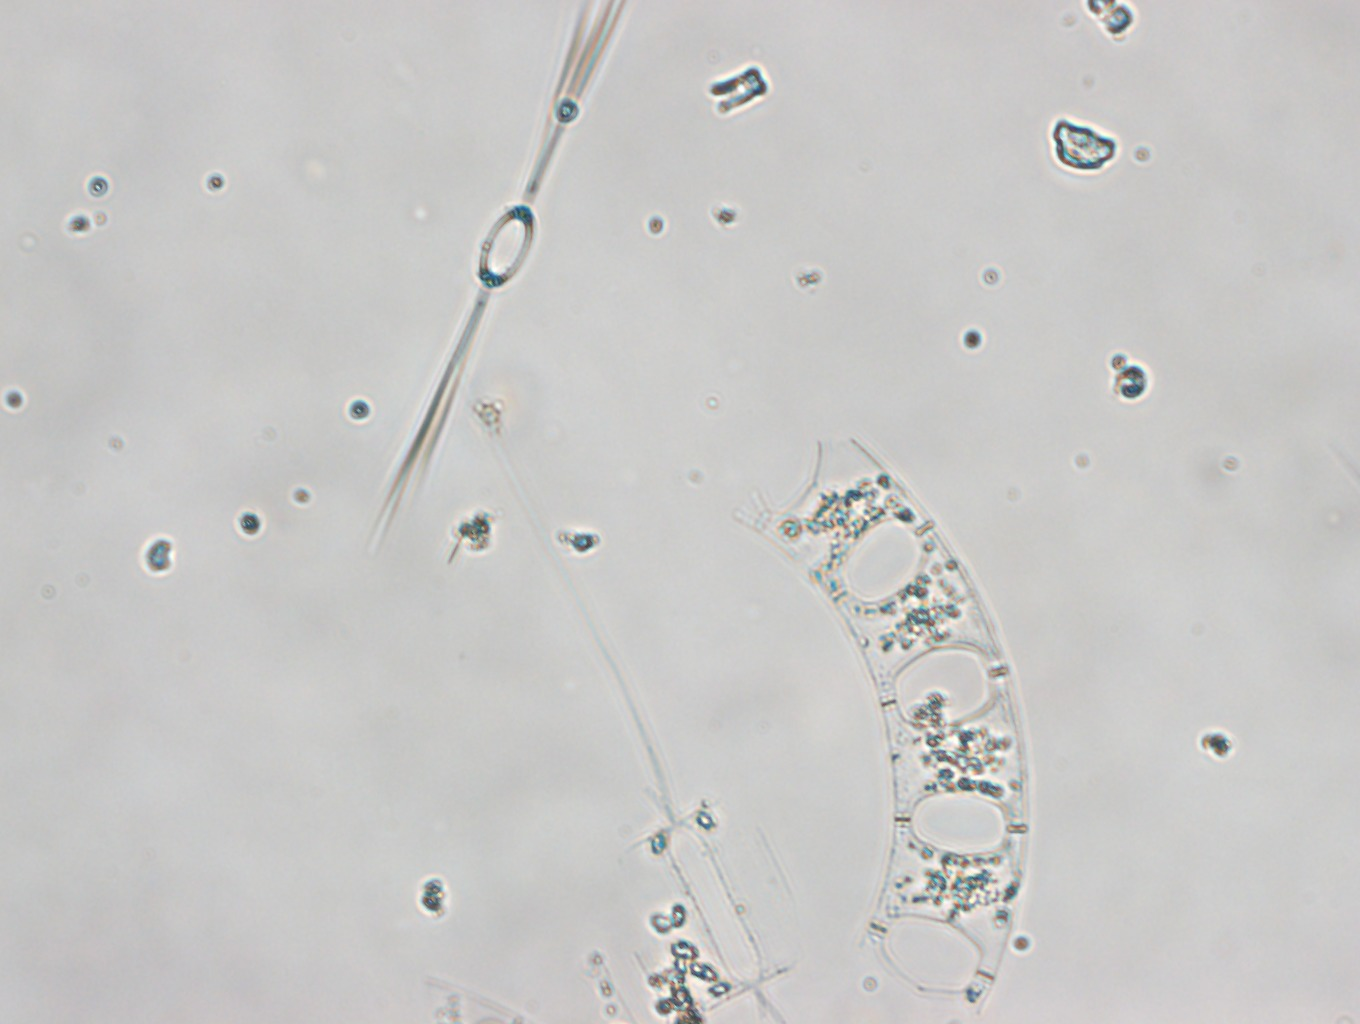chaetoceros: (359, 10, 642, 558)
eucampia: (716, 431, 1068, 1024)
